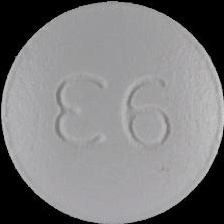0093-5260: (0, 0, 224, 224)
